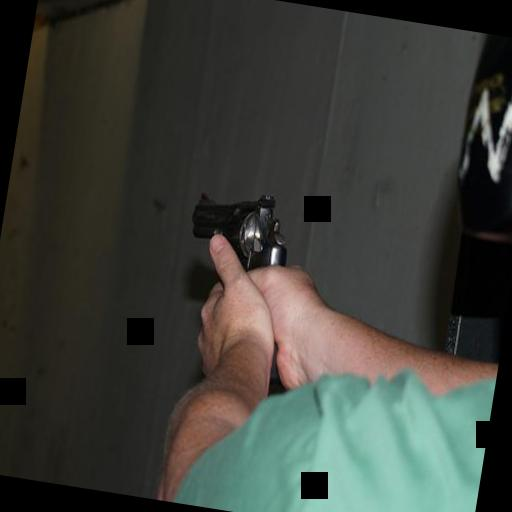Handgun: (166, 174, 304, 384)
